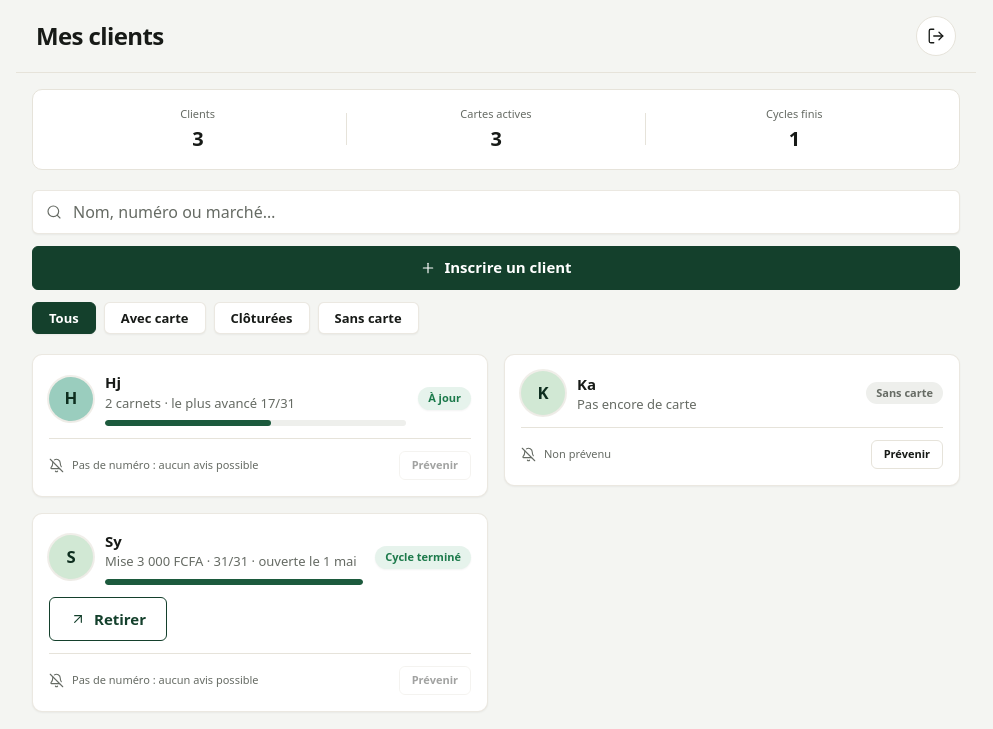
Scenario: recherche de client › ne dit pas « aucun » quand c’est le filtre qui cache le client
Expected: the text "Hj" is shown, [105,372,121,392]
Click the button "Avec carte": (155, 318) [104,302,206,334]
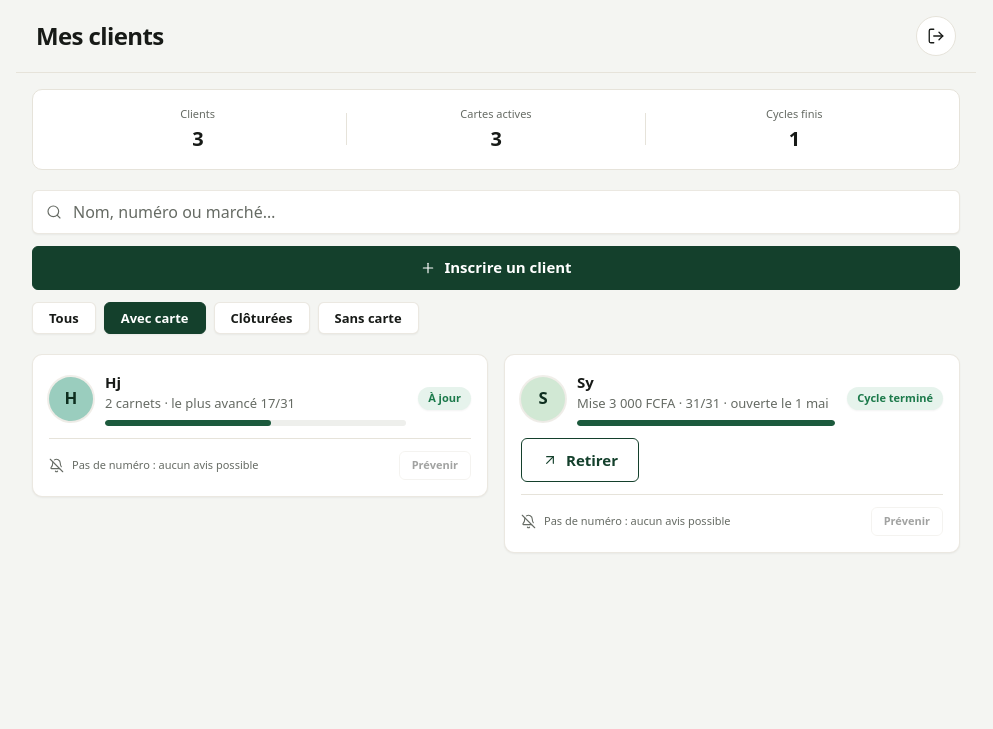
In the field named "Rechercher un client": (496, 212) [32,190,960,234], type "ka"
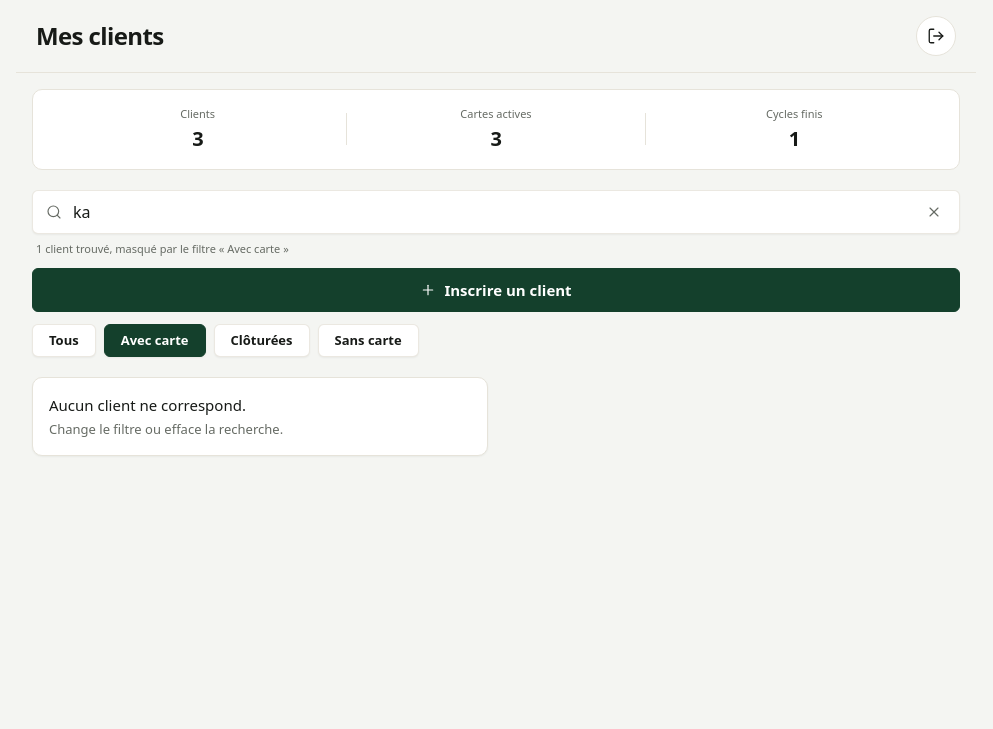
Expected: the message shows "filtre", [36,240,289,256]
